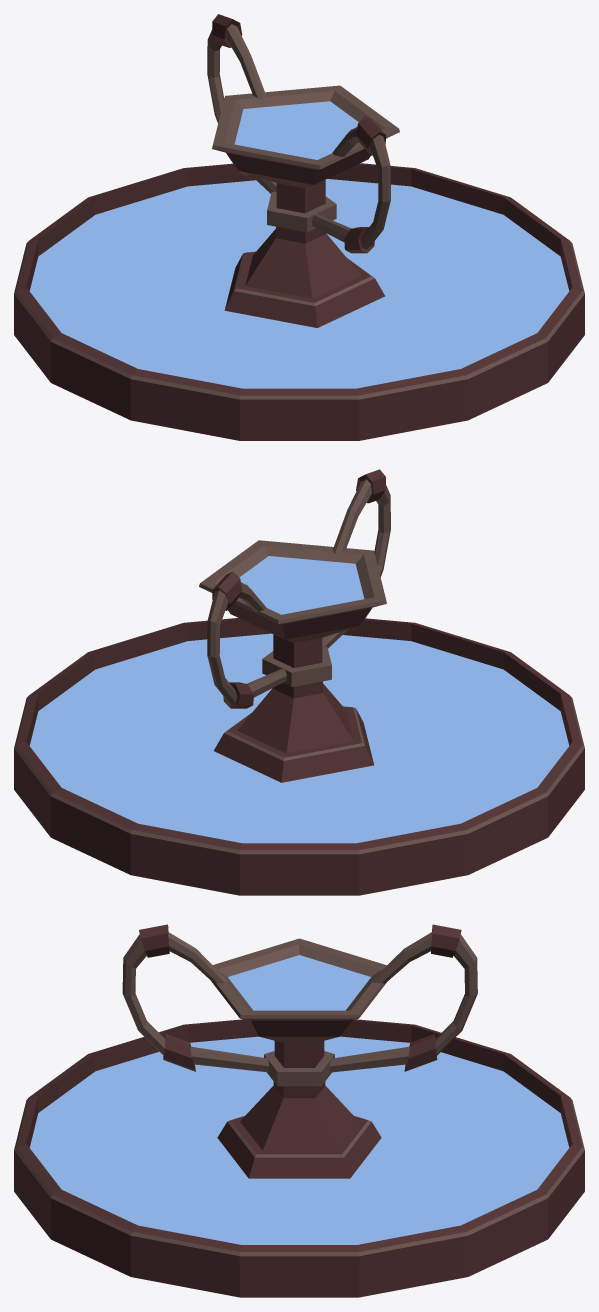
The model's file is Fountain_02.glb.
3 renders of one model, top to bottom at view 1: azimuth 30°, elevation 25°; view 2: azimuth 150°, elevation 25°; view 3: azimuth 270°, elevation 25°, orthographic.
Visible parts, largest first — view 1: Fountain_02; view 2: Fountain_02; view 3: Fountain_02.
Boxes of the visible parts, x1,y1,x2,y2 form: Fountain_02: [14, 14, 584, 440]; Fountain_02: [14, 469, 584, 895]; Fountain_02: [14, 924, 584, 1297].
Size of what is drawn, in the model's own units: 3.85 by 1.91 by 3.88.
Materials: 1 (1 with a texture image).
